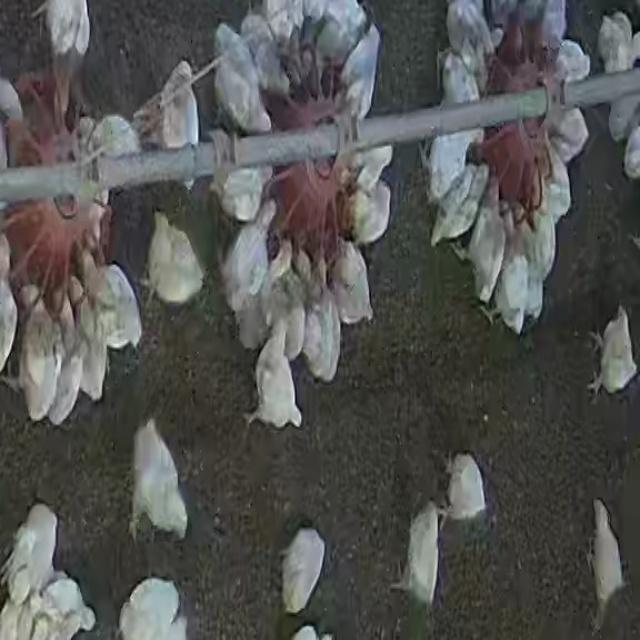chicken: (127, 420, 194, 537), (219, 205, 276, 338), (213, 26, 272, 135), (83, 247, 145, 350), (248, 242, 303, 352), (245, 324, 301, 431), (3, 502, 60, 606), (18, 283, 59, 426), (296, 251, 337, 393), (391, 506, 445, 613), (428, 160, 491, 251), (148, 208, 203, 310), (586, 500, 626, 632), (586, 302, 638, 399), (158, 55, 198, 179), (464, 188, 506, 306), (240, 10, 292, 99), (116, 578, 191, 639), (491, 220, 531, 334), (280, 526, 328, 616), (423, 125, 483, 194), (331, 232, 375, 326), (340, 27, 383, 121), (71, 277, 103, 402), (38, 574, 97, 638), (52, 283, 78, 426), (442, 452, 489, 530), (48, 325, 86, 421), (214, 162, 270, 224), (347, 176, 395, 245), (520, 207, 552, 308), (452, 1, 499, 66), (542, 135, 574, 228), (0, 235, 19, 387), (345, 143, 396, 199), (437, 47, 481, 109), (41, 0, 89, 56), (548, 104, 590, 168), (82, 114, 140, 159), (554, 39, 592, 87), (60, 286, 81, 356), (610, 10, 634, 67)
